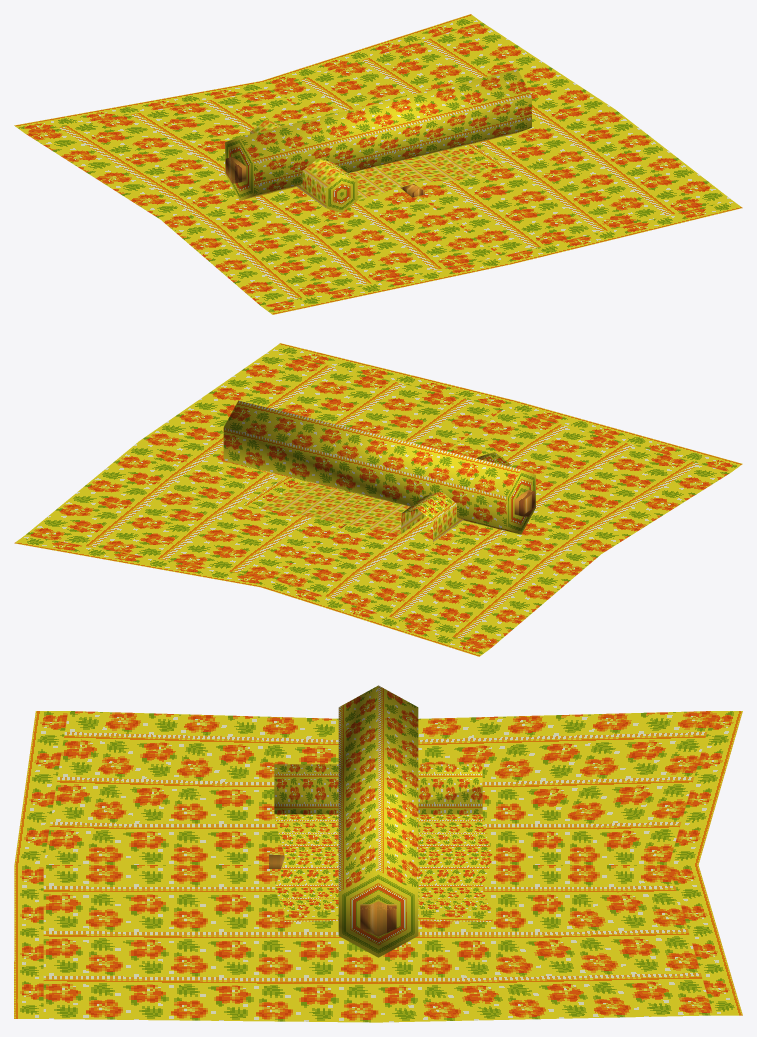
Rendered from 5309ucc_nunoji00.gltf.
3 renders of one model, top to bottom at view 1: azimuth 30°, elevation 25°; view 2: azimuth 150°, elevation 25°; view 3: azimuth 270°, elevation 25°, orthographic. The views are drawn at different scales.
Visible parts, largest first — view 1: 5309ucc_nunoji00; view 2: 5309ucc_nunoji00; view 3: 5309ucc_nunoji00.
Part boxes in pixels (x1,y1,x2,y2): 5309ucc_nunoji00: [14, 14, 742, 314]; 5309ucc_nunoji00: [14, 343, 742, 656]; 5309ucc_nunoji00: [14, 685, 742, 1022].
Bounding box in the file's own units: 2.02 × 0.2949 × 2.
2 materials, 2 textured.
